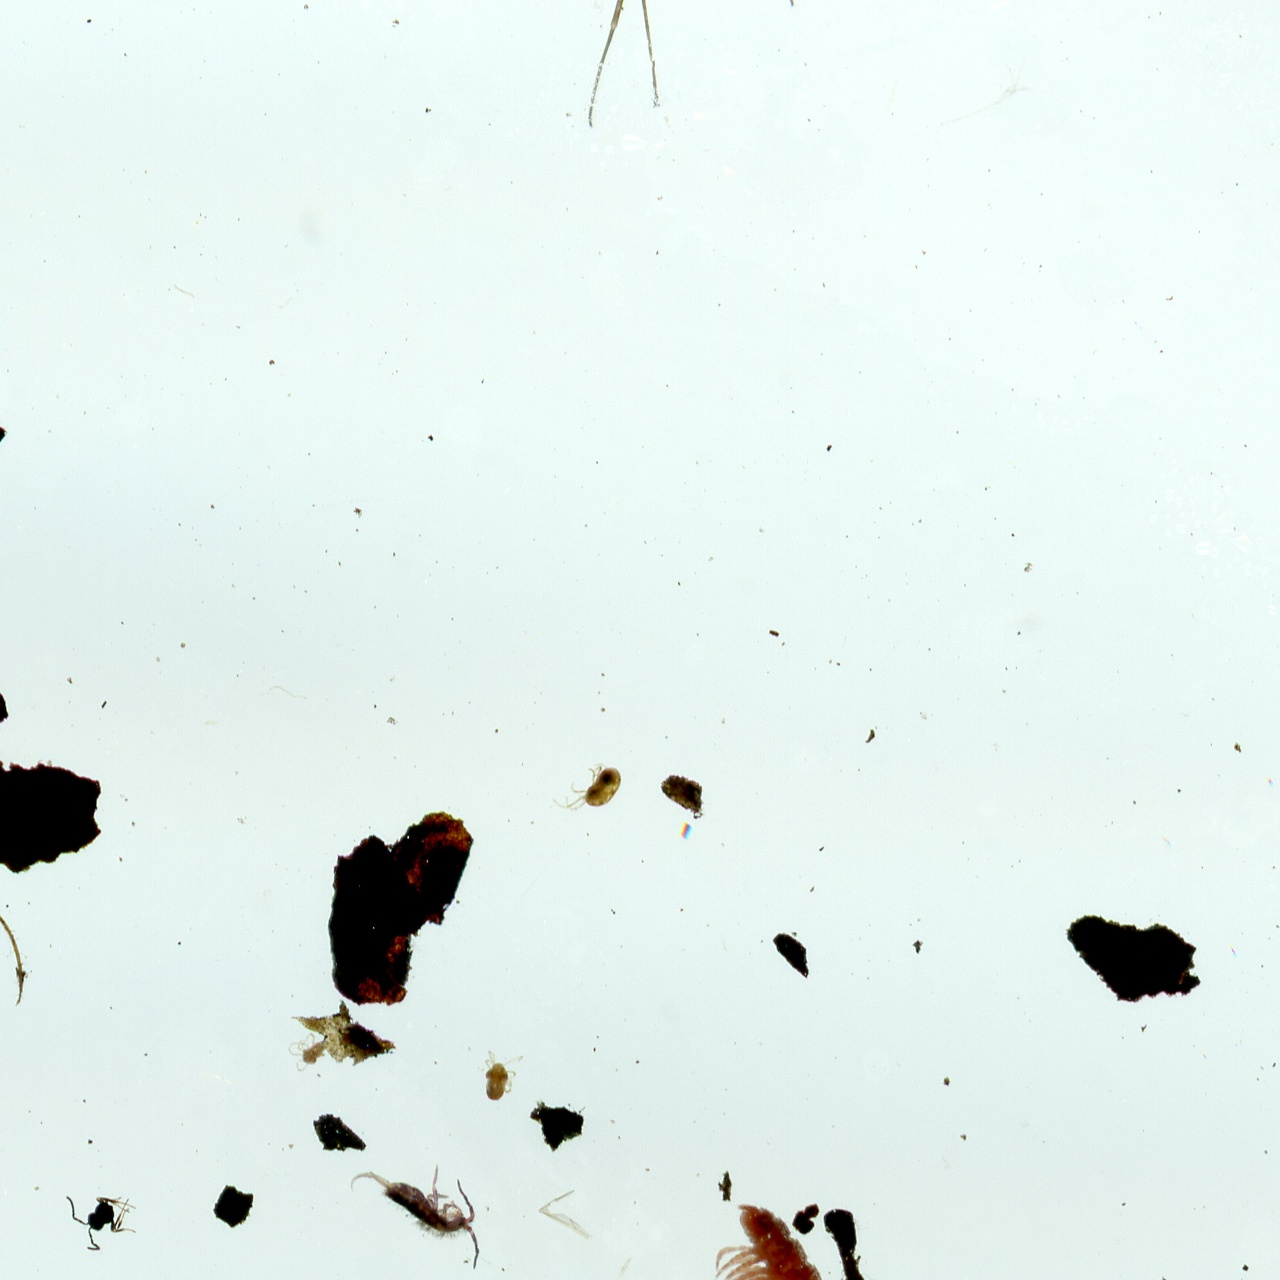arthropod: (473, 0, 802, 134), (610, 1180, 907, 1280), (349, 1163, 481, 1272), (62, 1191, 138, 1254), (548, 760, 624, 818), (481, 1046, 526, 1103), (287, 1031, 330, 1073)
